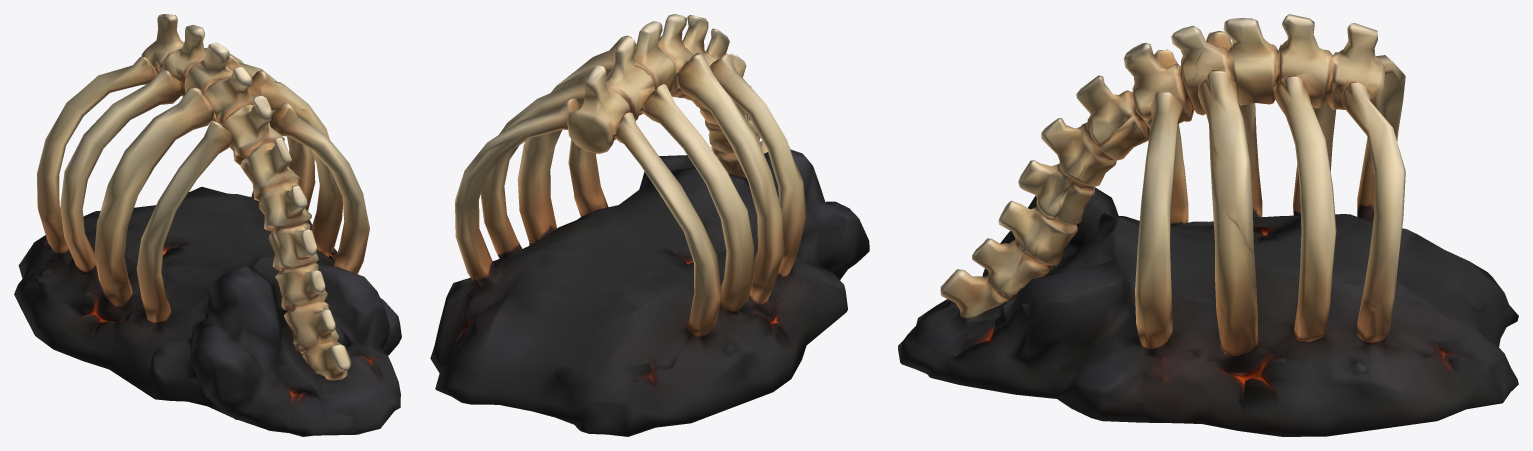
The model's file is ribcage_bones.glb.
3 renders of one model, left to right at view 1: azimuth 30°, elevation 25°; view 2: azimuth 150°, elevation 25°; view 3: azimuth 270°, elevation 25°, orthographic. The views are drawn at different scales.
Visible parts, largest first — view 1: tripo_node_fbfdf1b7-238a-4c85-9dca-cabc03fbad09; view 2: tripo_node_fbfdf1b7-238a-4c85-9dca-cabc03fbad09; view 3: tripo_node_fbfdf1b7-238a-4c85-9dca-cabc03fbad09.
Boxes of the visible parts, left/top/right/bottom form: tripo_node_fbfdf1b7-238a-4c85-9dca-cabc03fbad09: left=14, top=14, right=401, bottom=436; tripo_node_fbfdf1b7-238a-4c85-9dca-cabc03fbad09: left=430, top=14, right=869, bottom=436; tripo_node_fbfdf1b7-238a-4c85-9dca-cabc03fbad09: left=898, top=14, right=1518, bottom=436.
Bounding box in the file's own units: 21.1 × 19.22 × 32.01.
1 material, 1 textured.
